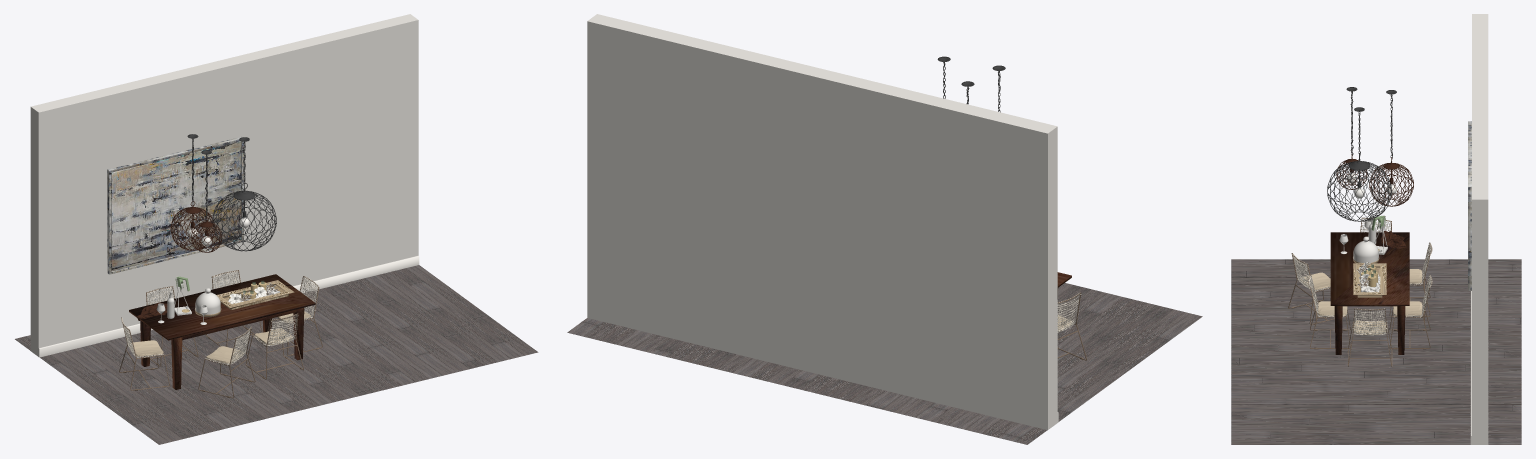
3 renders of one model, left to right at view 1: azimuth 30°, elevation 25°; view 2: azimuth 150°, elevation 25°; view 3: azimuth 270°, elevation 25°, orthographic. The views are drawn at different scales.
Visible parts, largest first — view 1: OBJ.007, OBJ.005, OBJ.006, OBJ.001, OBJ.015, OBJ.012, OBJ.016, OBJ.017, OBJ.022; view 2: OBJ.007, OBJ.005; view 3: OBJ.005, OBJ.007, OBJ.001, OBJ.012, OBJ.015, OBJ.016, OBJ.017, OBJ.022, OBJ.006, OBJ.028, OBJ.004, OBJ.011.
Part boxes in pixels (x1,y1,x2,y2): OBJ.007: (30,14,419,357); OBJ.005: (15,265,538,444); OBJ.006: (107,136,243,274); OBJ.001: (129,201,315,389); OBJ.015: (121,270,319,365); OBJ.012: (187,134,276,251); OBJ.016: (119,270,322,398); OBJ.017: (131,311,310,363); OBJ.022: (194,280,294,316); OBJ.007: (587,14,1058,430); OBJ.005: (567,283,1202,444); OBJ.005: (1231,259,1521,444); OBJ.007: (1470,14,1488,444); OBJ.001: (1330,154,1413,354); OBJ.012: (1327,87,1396,221); OBJ.015: (1291,217,1432,335); OBJ.016: (1288,217,1432,366); OBJ.017: (1300,269,1422,334); OBJ.022: (1353,256,1386,297); OBJ.006: (1468,121,1471,290); OBJ.028: (1353,236,1378,262); OBJ.004: (1380,230,1406,249); OBJ.011: (1351,93,1392,157).
Bounding box in the file's own units: 5.36 × 3.3 × 3.54.
Materials: 15 (4 with a texture image).
